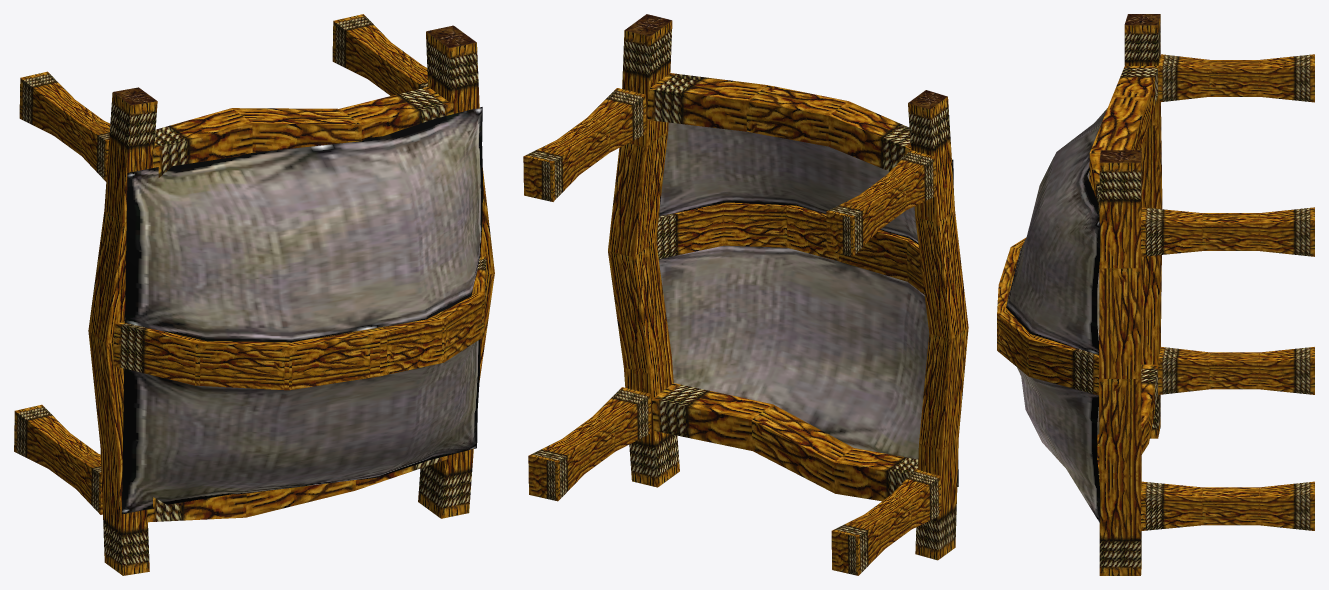
File: LVL_RIV_INST_SMALL_TENT.fbx
The picture shows the model from 3 angles, left to right: view 1: azimuth 30°, elevation 25°; view 2: azimuth 150°, elevation 25°; view 3: azimuth 270°, elevation 25°; orthographic projection. The views are drawn at different scales.
Parts seen in each view (by area): view 1: LVL_RIV_INST_SMALL_TENT; view 2: LVL_RIV_INST_SMALL_TENT; view 3: LVL_RIV_INST_SMALL_TENT.
Boxes of the visible parts, left/top/right/bottom form: LVL_RIV_INST_SMALL_TENT: left=14, top=14, right=494, bottom=575; LVL_RIV_INST_SMALL_TENT: left=523, top=14, right=968, bottom=575; LVL_RIV_INST_SMALL_TENT: left=997, top=14, right=1314, bottom=575.
Bounding box in the file's own units: 48061 × 58789 × 40113.
4 materials, 4 textured.
